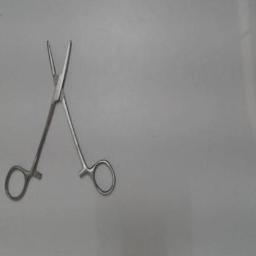Mayo Needle Holder: (0, 30, 118, 206)
